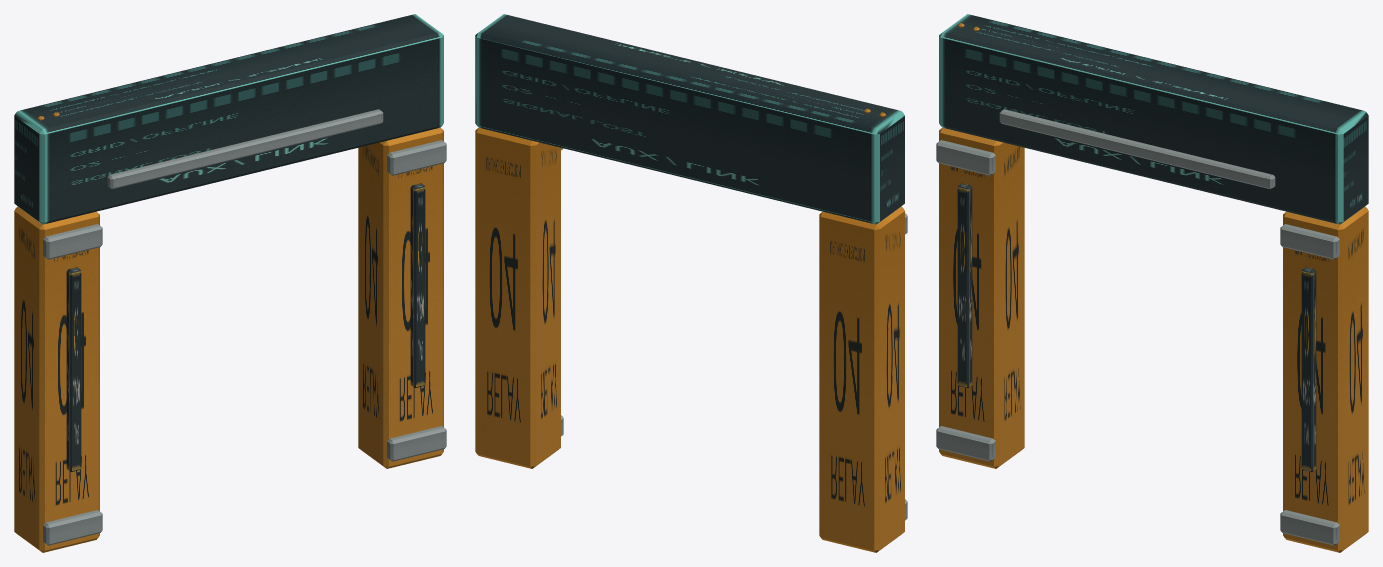
File: doorframe_4m_LOD0.obj
3 views of the same model, side by side, from view 1: azimuth 30°, elevation 25°; view 2: azimuth 150°, elevation 25°; view 3: azimuth 330°, elevation 25° (orthographic).
Parts seen in each view (by area): view 1: L02_doorframe_4m_LOD0; view 2: L02_doorframe_4m_LOD0; view 3: L02_doorframe_4m_LOD0.
Boxes of the visible parts, x1,y1,x2,y2 form: L02_doorframe_4m_LOD0: (14, 14, 446, 552); L02_doorframe_4m_LOD0: (475, 14, 907, 552); L02_doorframe_4m_LOD0: (936, 14, 1368, 552).
Bounding box in the file's own units: 4 × 4.03 × 0.58.
Materials: 1 (1 with a texture image).
